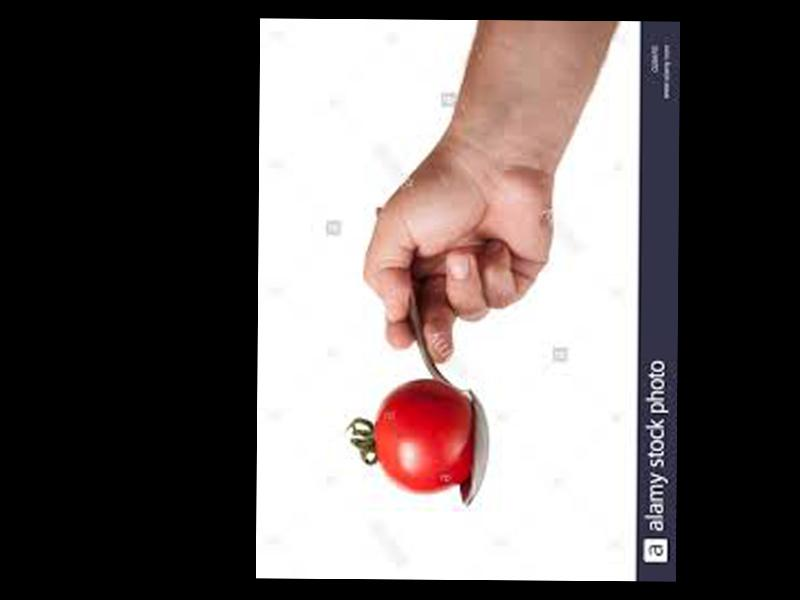Tomato: (372, 378, 472, 492)
